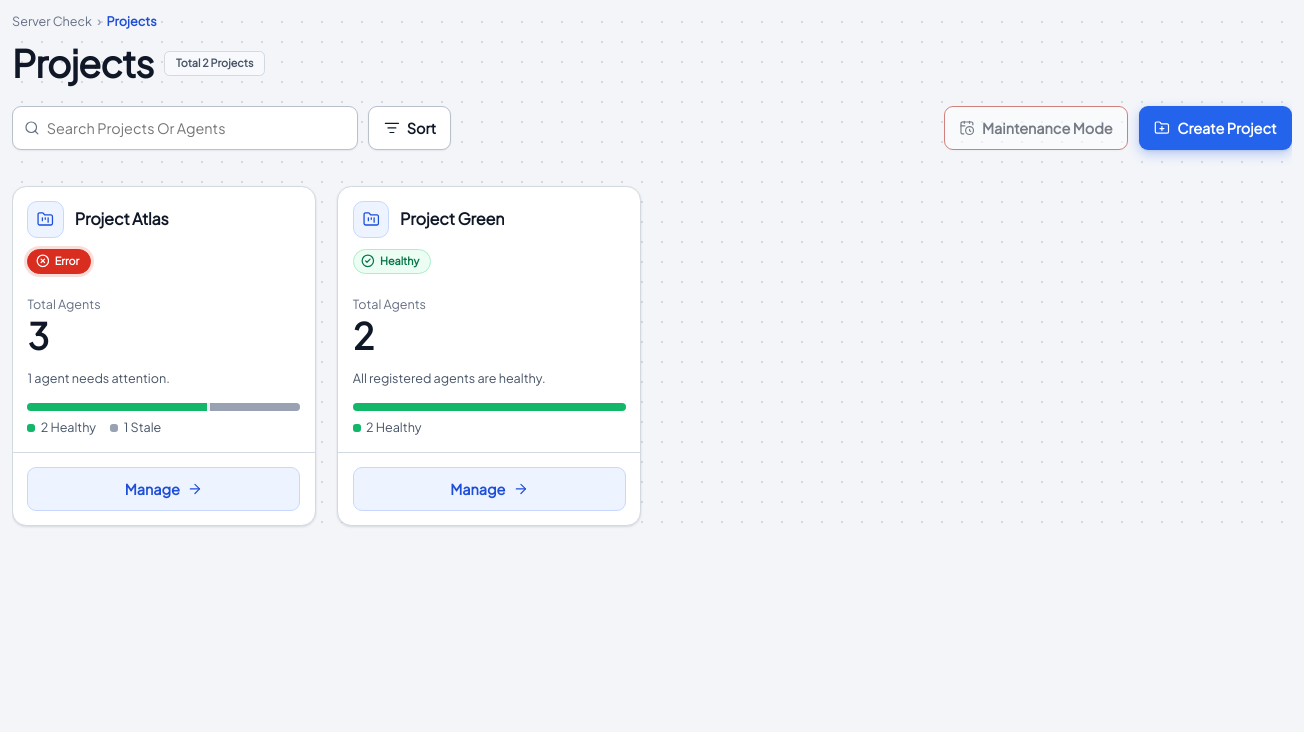
Projects collection flow › filters projects by project name or any agent name from one search box
In the search field labelled "Search Projects Or Agents": (196, 128) [47,107,346,149], type "COINCAT-DB"
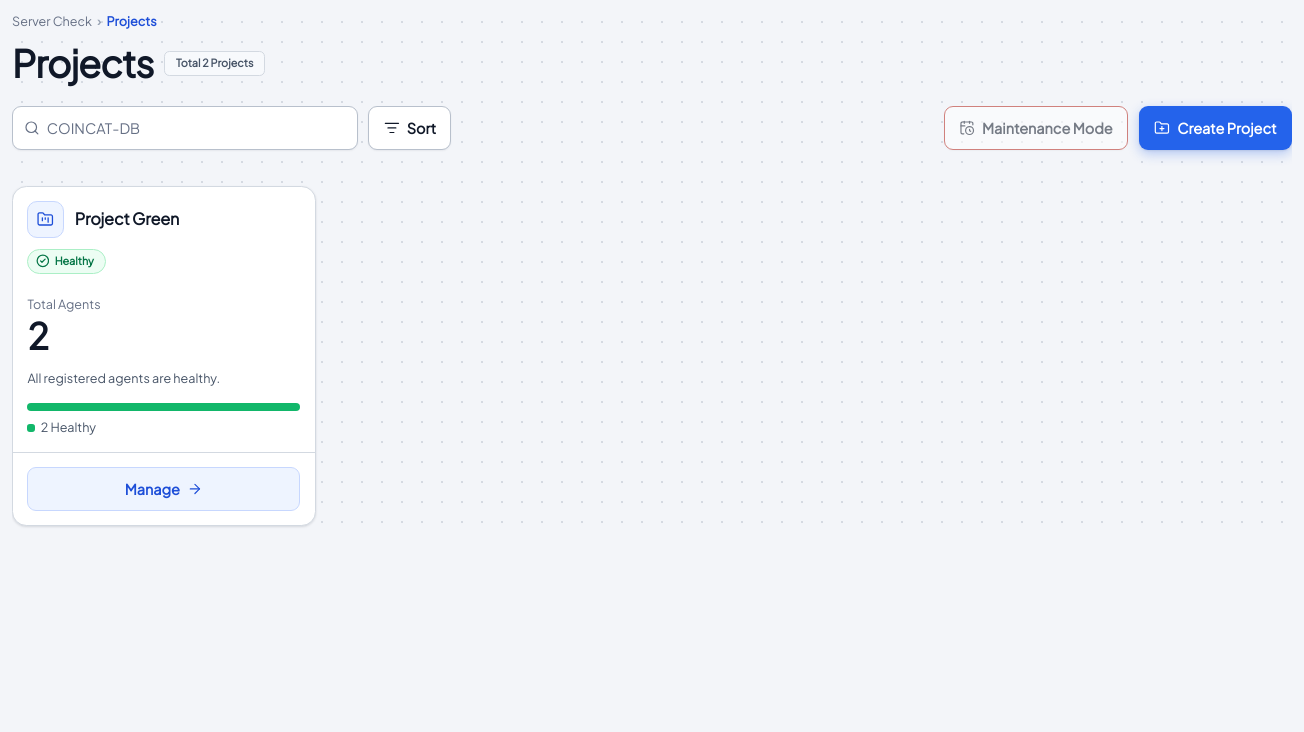
Expected: the element "Project Green" is shown, [12,186,316,526]
Expected: the heading "Project Atlas" is gone
Replace the text in the search field named "Search Projects Or Agents" with "atlas": (196, 128) [47,107,346,149]
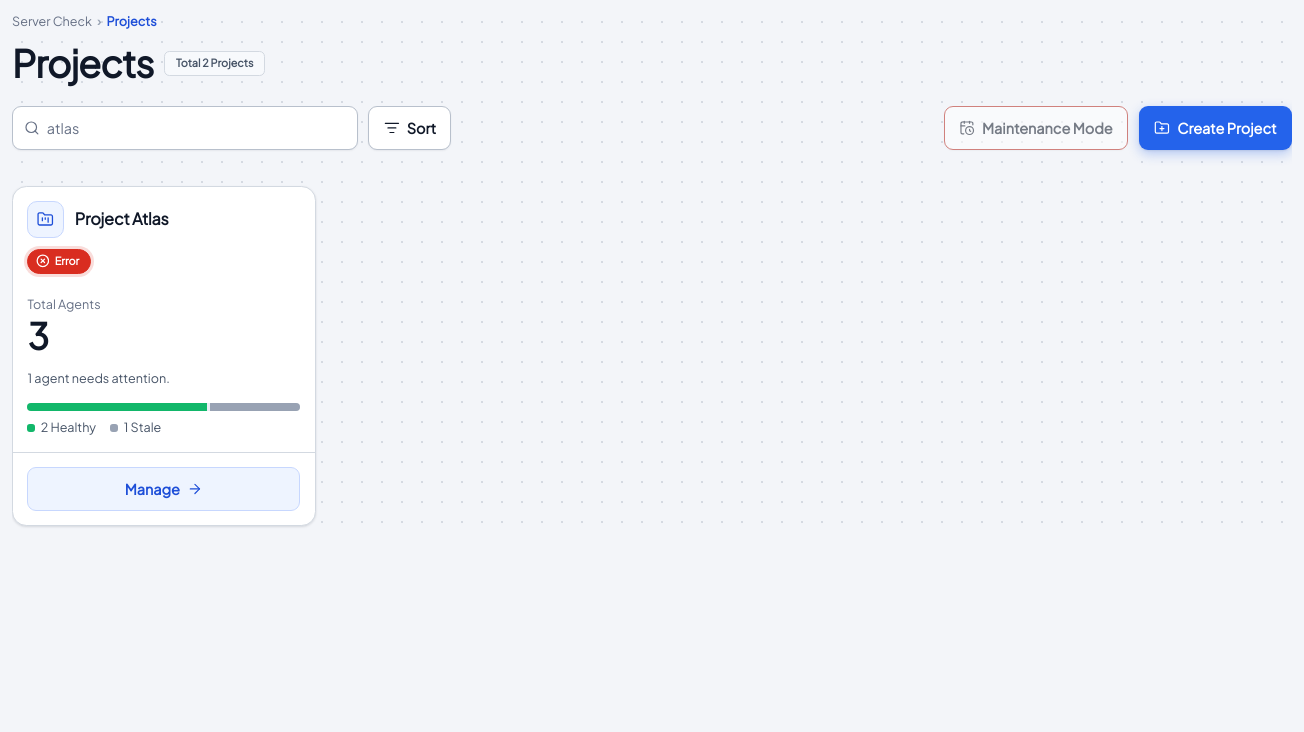
Expected: the element "Project Atlas" is shown, [12,186,316,526]
Expected: the heading "Project Green" is gone
Replace the text in the search field named "Search Projects Or Agents" with "no-such-server": (196, 128) [47,107,346,149]
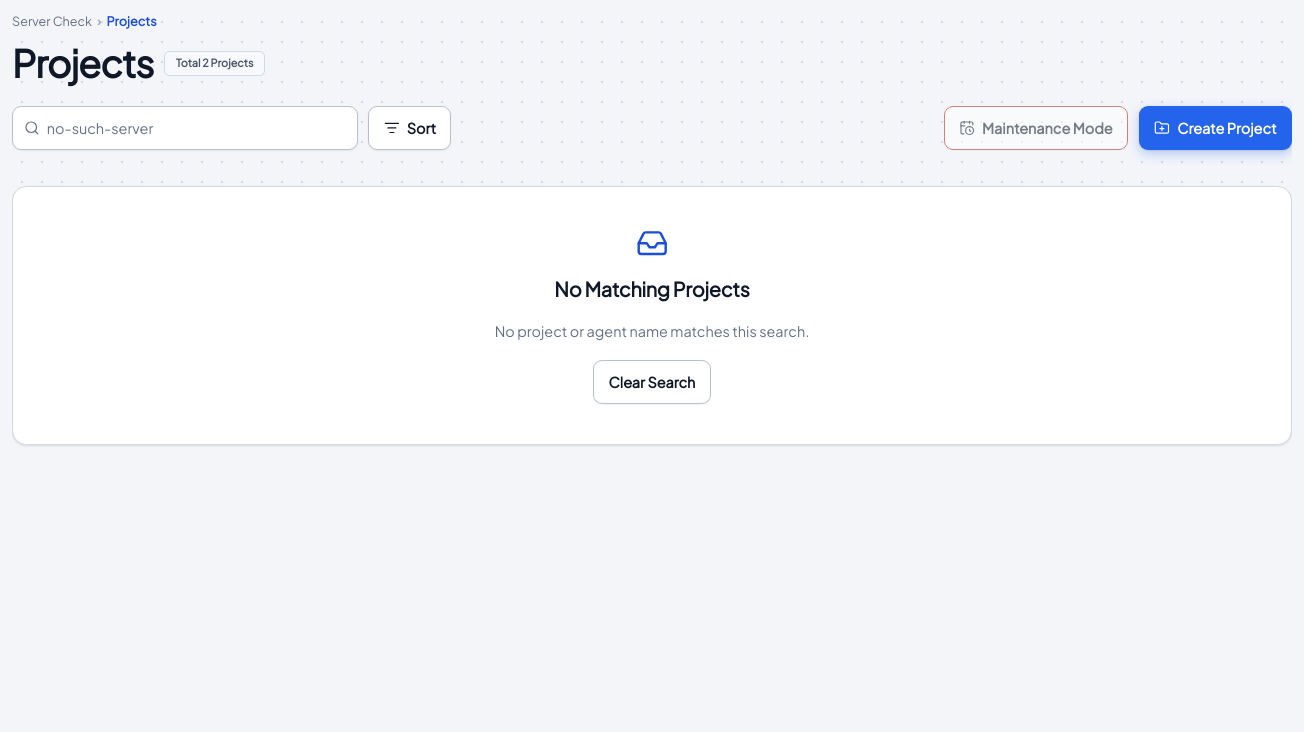
Expected: the heading "No Matching Projects" is shown, [554,277,750,301]
Click the button "Clear Search": (652, 382) [593,360,711,404]
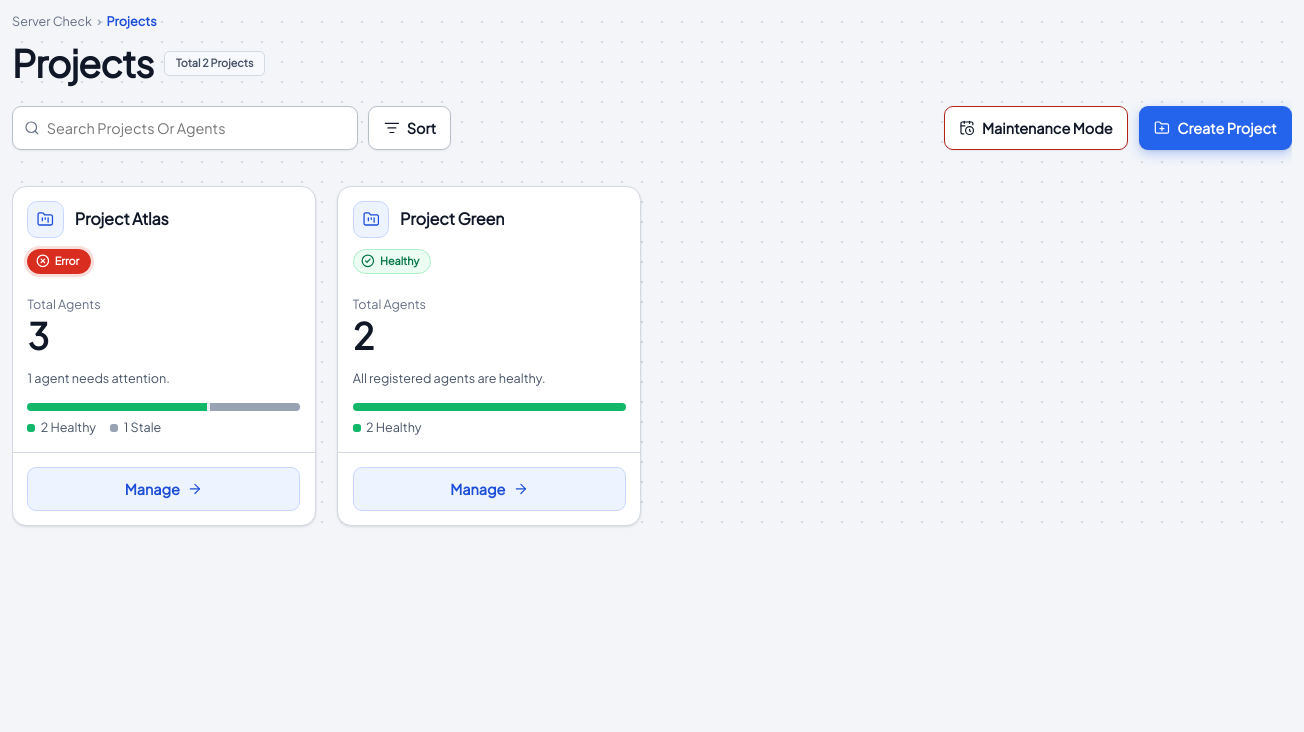
Expected: the element "Project Atlas" is shown, [12,186,316,526]
Expected: the element "Project Green" is shown, [337,186,641,526]
